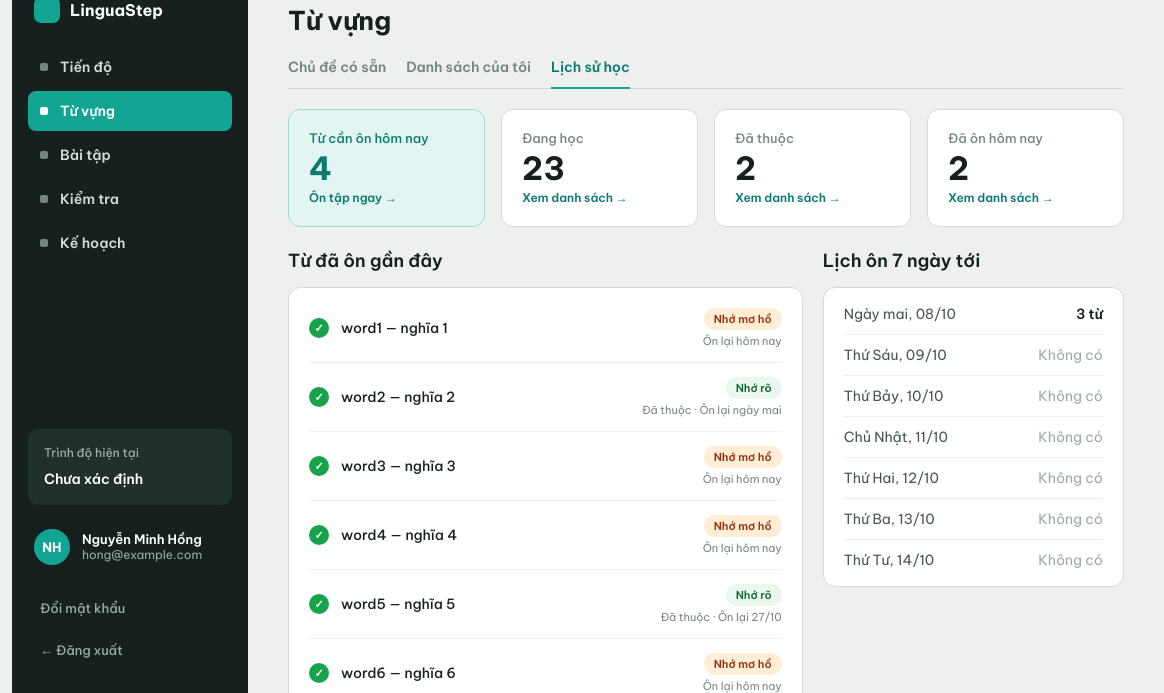
it: history tab › lists the words behind a count when it is chosen, and every word again when it is chosen twice
Expected: the text "word1" is shown, [341,319,382,337]
What coordinates should you click on to do the following:
click the link with aria-label "Đã thuộc: 2 từ. Xem danh sách"
I would click on:
 (812, 168)
Its box is [714,109,911,227].
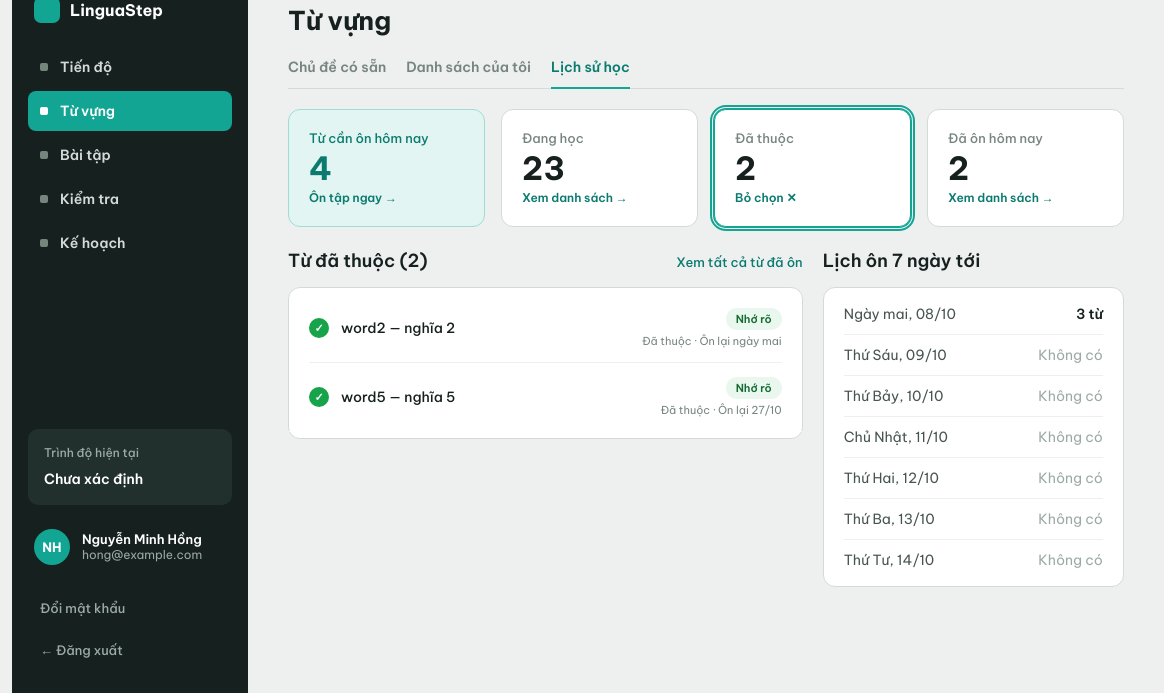
Expected: the text "word2" is shown, [341,319,386,337]
Expected: the text "word1" is gone
What coordinates should you click on to do the following:
click the link with aria-label "Đã thuộc: 2 từ. Bỏ chọn"
I would click on:
 (812, 168)
Its box is [714,109,911,227].
(page scrolled)
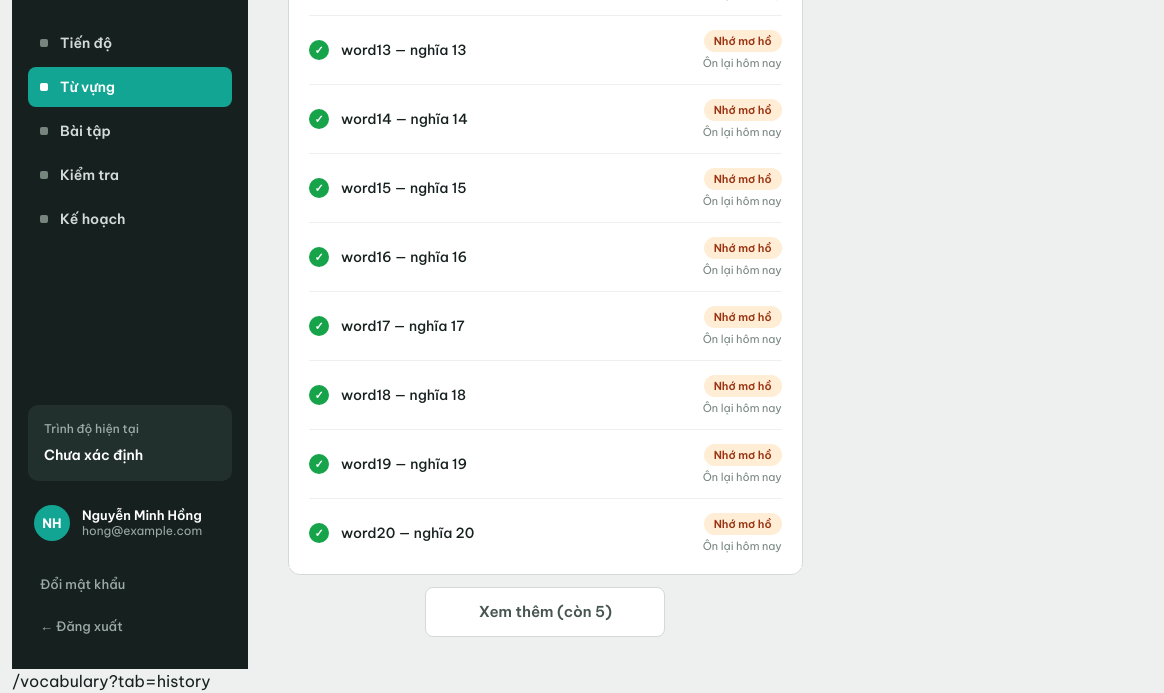
Expected: the text with test id "location" reads "/vocabulary?tab=history", [12,671,211,691]
